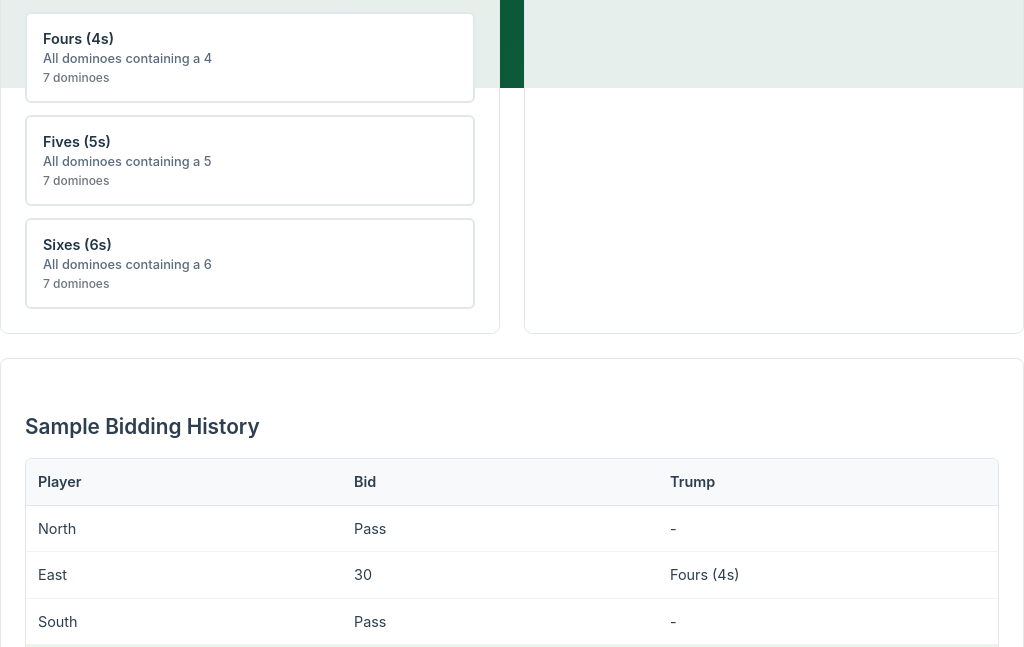
Test: BiddingSection - Trump Suit Selection › updates trump indicator when suit is selected
(page scrolled)
Expected: the text "Trump Highlighted" is not shown
Select sixes trump
Click the button with test id "trump-suit-sixes" at (77, 245), box [25, 218, 475, 309]
(page scrolled)
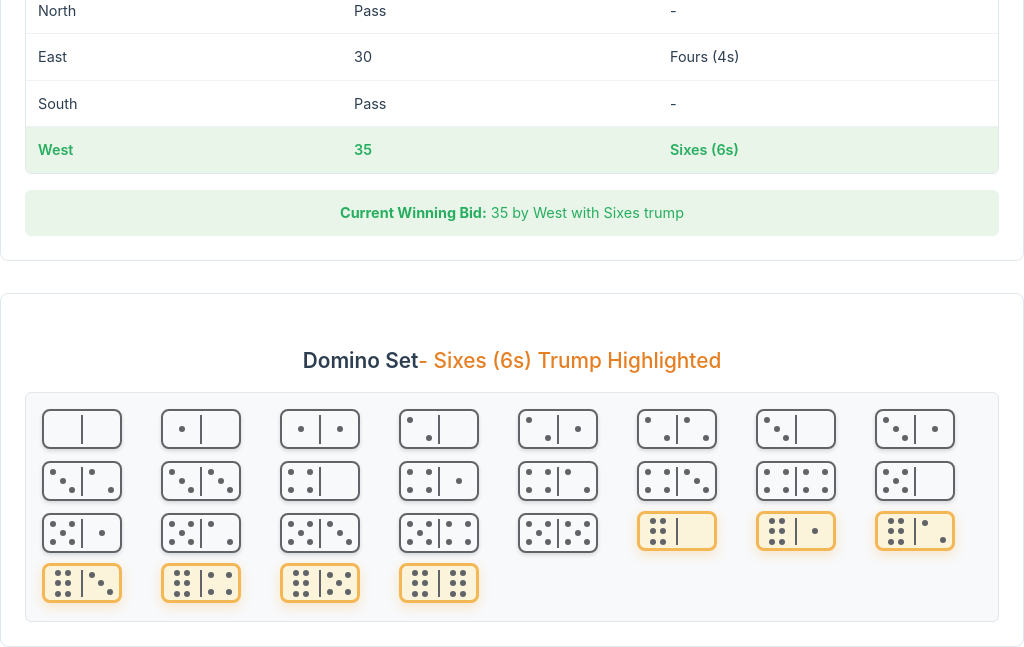
Expected: the text "- Sixes (6s) Trump Highlighted" is shown, [418, 348, 721, 373]
